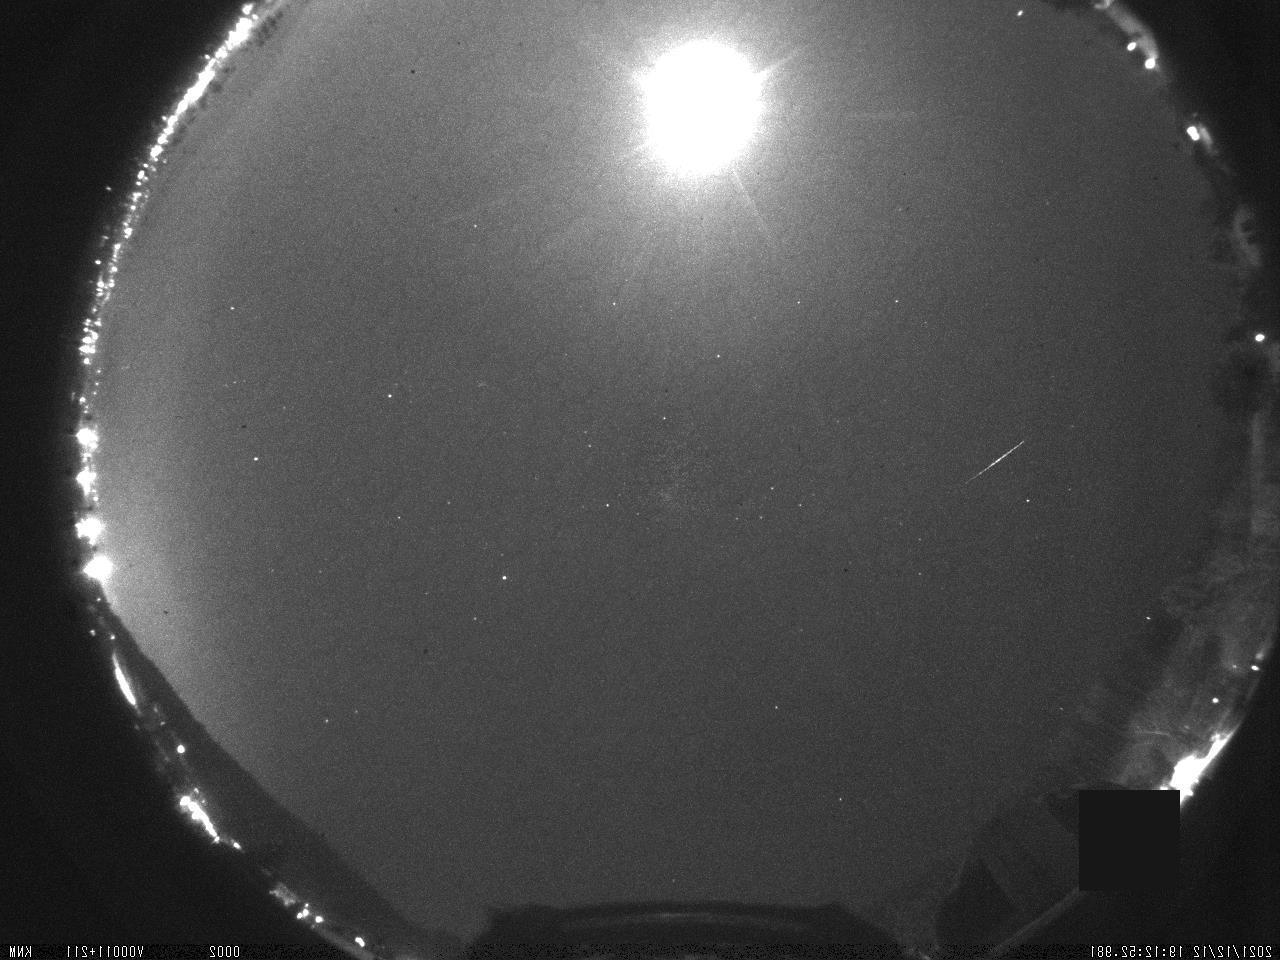meteor: (953, 429, 1036, 495)
